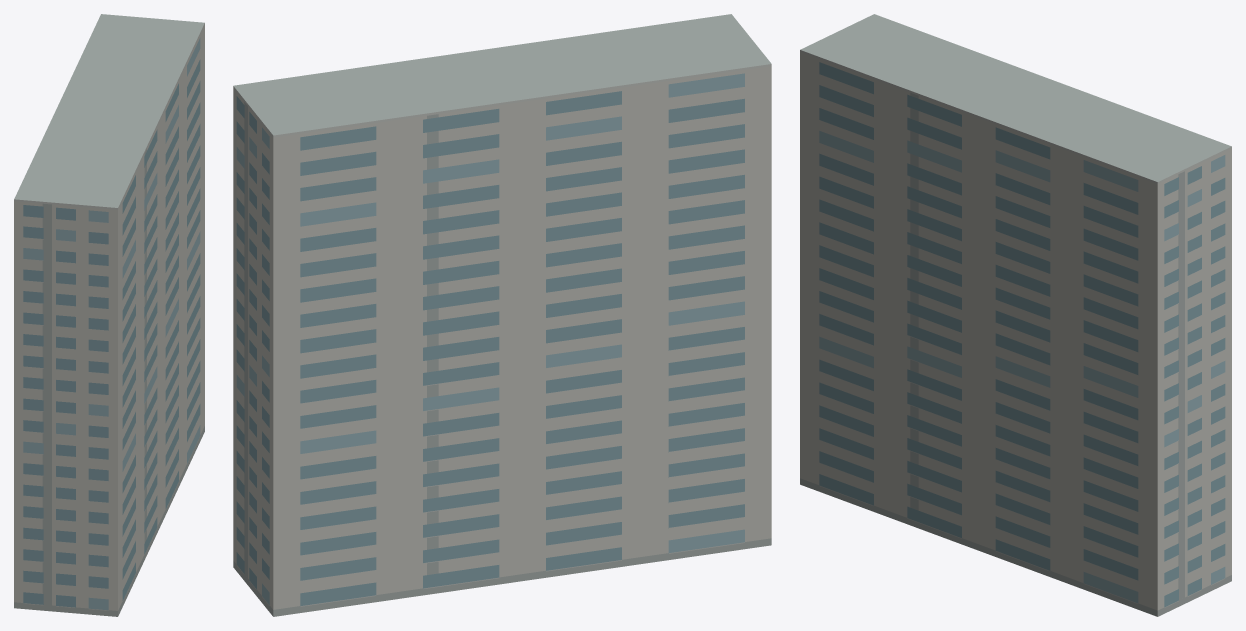
The model's file is residential-b4901f8c-7760-4e62-910d-cfa9f1e86bdc.glb.
The picture shows the model from 3 angles, left to right: view 1: azimuth 30°, elevation 25°; view 2: azimuth 150°, elevation 25°; view 3: azimuth 270°, elevation 25°; orthographic projection. The views are drawn at different scales.
Parts seen in each view (by area): view 1: residential-b4901f8c-7760-4e62-910d-cfa9f1e86bdc.tmp; view 2: residential-b4901f8c-7760-4e62-910d-cfa9f1e86bdc.tmp; view 3: residential-b4901f8c-7760-4e62-910d-cfa9f1e86bdc.tmp.
Part boxes in pixels (x1=…): residential-b4901f8c-7760-4e62-910d-cfa9f1e86bdc.tmp: x1=14, y1=14, x2=204, y2=616; residential-b4901f8c-7760-4e62-910d-cfa9f1e86bdc.tmp: x1=233, y1=14, x2=771, y2=616; residential-b4901f8c-7760-4e62-910d-cfa9f1e86bdc.tmp: x1=800, y1=14, x2=1231, y2=616.
Size of the model in its own units: 42.32 by 51 by 45.92.
